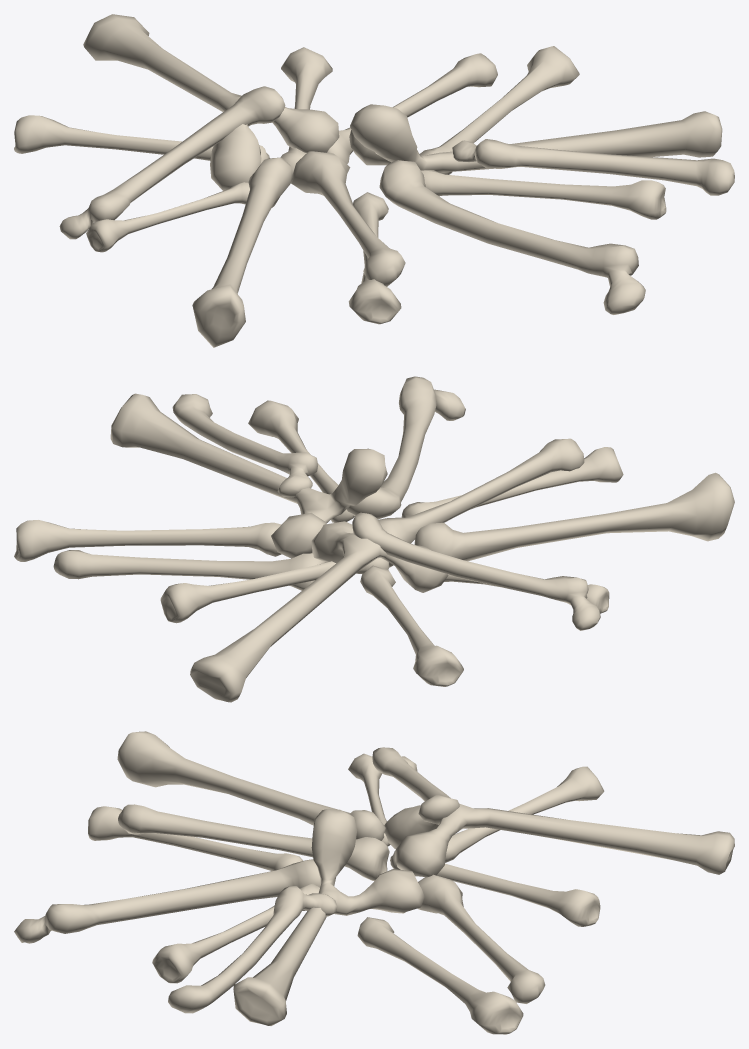
Rendered from BonePile_4.glb.
3 renders of one model, top to bottom at view 1: azimuth 30°, elevation 25°; view 2: azimuth 150°, elevation 25°; view 3: azimuth 270°, elevation 25°, orthographic. The views are drawn at different scales.
Visible parts, largest first — view 1: BonePile_4; view 2: BonePile_4; view 3: BonePile_4.
Boxes of the visible parts, bbox=[...] form: BonePile_4: bbox=[14, 14, 734, 347]; BonePile_4: bbox=[14, 376, 734, 702]; BonePile_4: bbox=[14, 731, 734, 1034].
Size of the model in its own units: 0.9357 by 0.173 by 1.09.
